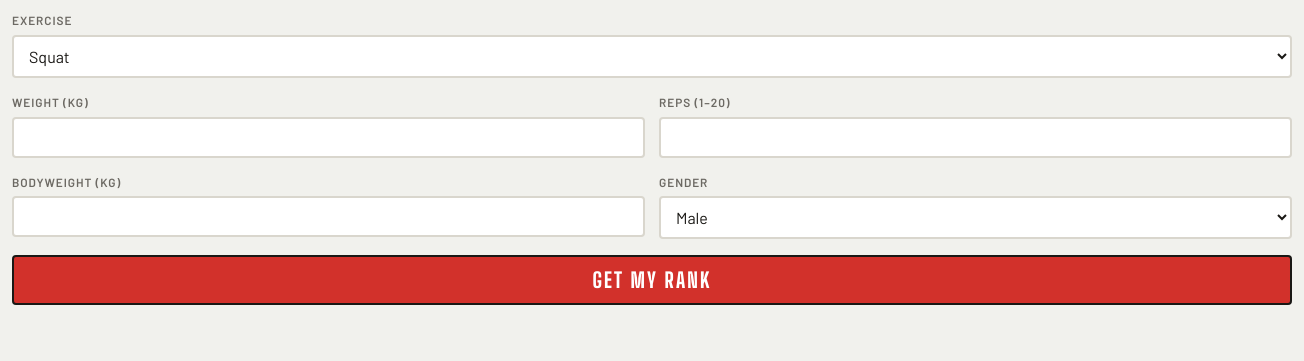
it: LiftForm world-record cap › applies the cap per exercise — 400kg bench gets the record message
Step 1. Select "Bench" in the dropdown labelled "Exercise" → (652, 56), box [12,35,1292,78]
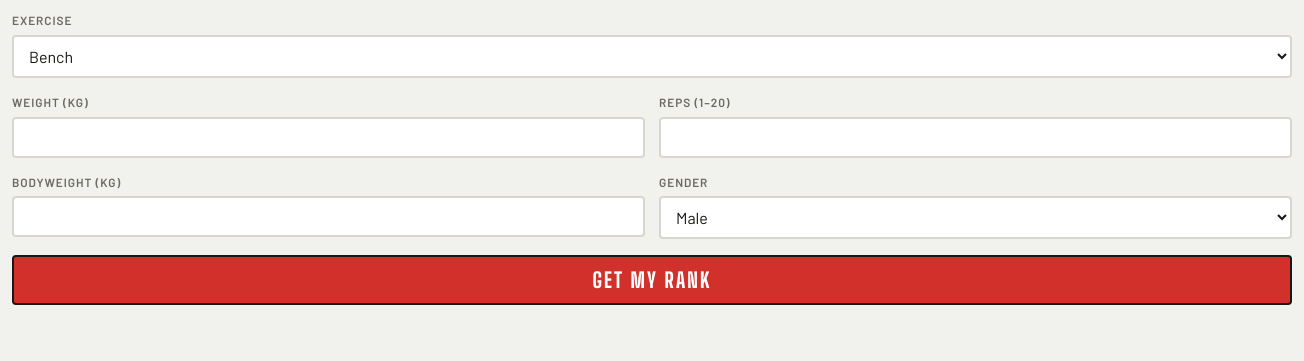
Step 2. Type "400" into the number field labelled "Weight (kg)" → (328, 137), box [12,116,645,158]
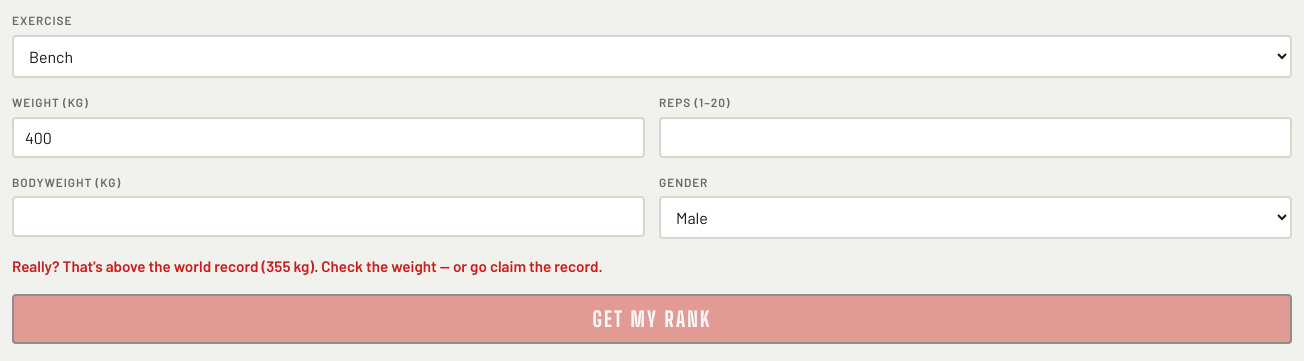
Now the message shows "Really?", box [12,257,266,275]
Now the button "Get my rank" is disabled, box [12,294,1292,344]
